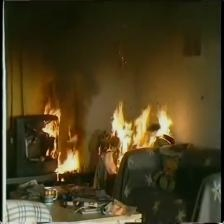fire: (96, 98, 172, 154), (41, 108, 80, 175)
smoke: (13, 7, 136, 101)
